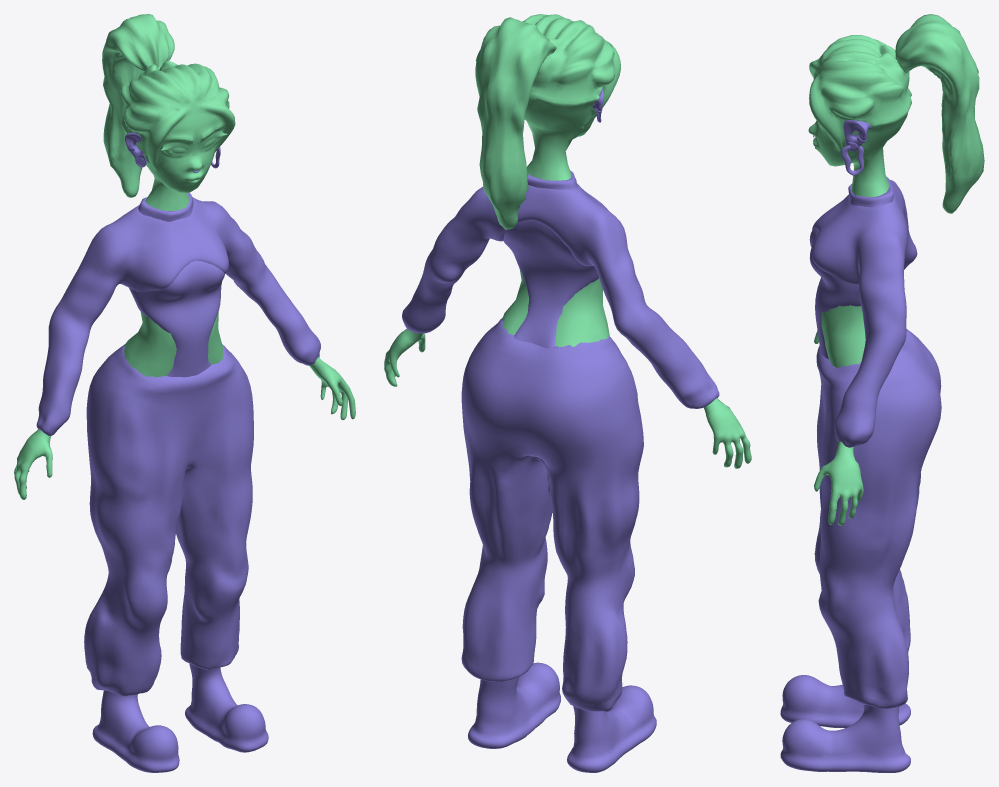
The model's file is Character.fbx.
3 renders of one model, left to right at view 1: azimuth 30°, elevation 25°; view 2: azimuth 150°, elevation 25°; view 3: azimuth 270°, elevation 25°, orthographic. The views are drawn at different scales.
Parts seen in each view (by area): view 1: Group009, default, Group51060, Group51054, Group51056; view 2: Group009, default, Group51060, Group51054, Group51056; view 3: Group009, default, Group51060, Group51054, Group51056, Group51061, Group51058.
Boxes of the visible parts, <box> form: Group009: <box>84,344,253,696</box>; default: <box>14,14,355,499</box>; Group51060: <box>36,197,320,435</box>; Group51054: <box>92,663,268,772</box>; Group51056: <box>129,193,224,377</box>; Group009: <box>461,317,643,711</box>; default: <box>384,14,751,468</box>; Group51060: <box>402,183,719,408</box>; Group51054: <box>468,662,656,772</box>; Group51056: <box>503,170,598,348</box>; Group009: <box>814,328,941,708</box>; default: <box>808,14,984,525</box>; Group51060: <box>812,180,917,447</box>; Group51054: <box>780,675,910,772</box>; Group51056: <box>809,176,904,359</box>; Group51061: <box>843,120,871,146</box>; Group51058: <box>840,145,863,175</box>.
Bounding box in the file's own units: 1.83 × 3.63 × 0.9255.
